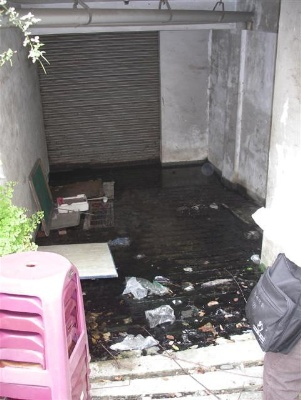plastic_bag: (123, 276, 174, 301), (108, 332, 158, 352), (144, 303, 176, 328)
styrofoam: (56, 193, 90, 214)
